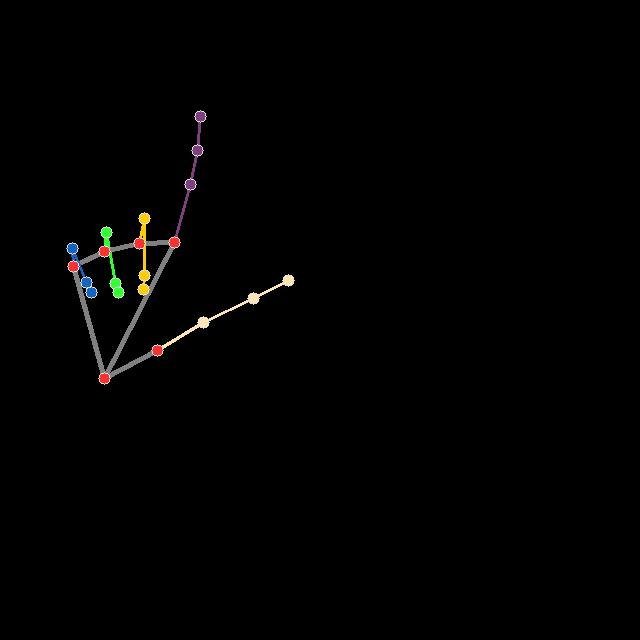gun: (66, 104, 297, 388)
